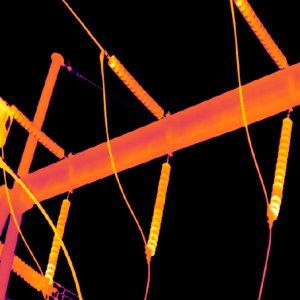insulator: (107, 53, 163, 117), (235, 0, 286, 68), (6, 101, 64, 159), (269, 116, 292, 221), (145, 160, 170, 256), (43, 198, 70, 283)
